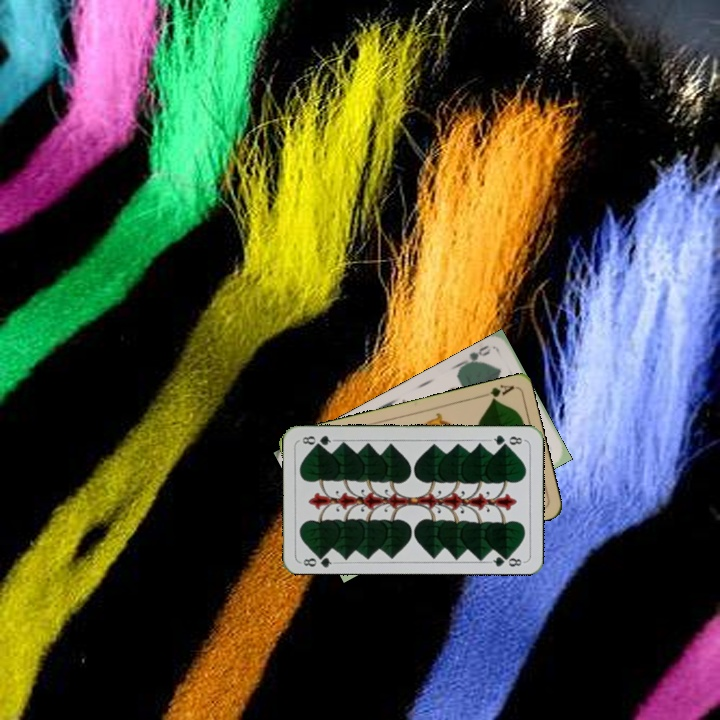G8: (299, 549, 338, 569), (486, 431, 527, 449)
GA: (476, 381, 516, 404)
GO: (456, 341, 493, 369)
